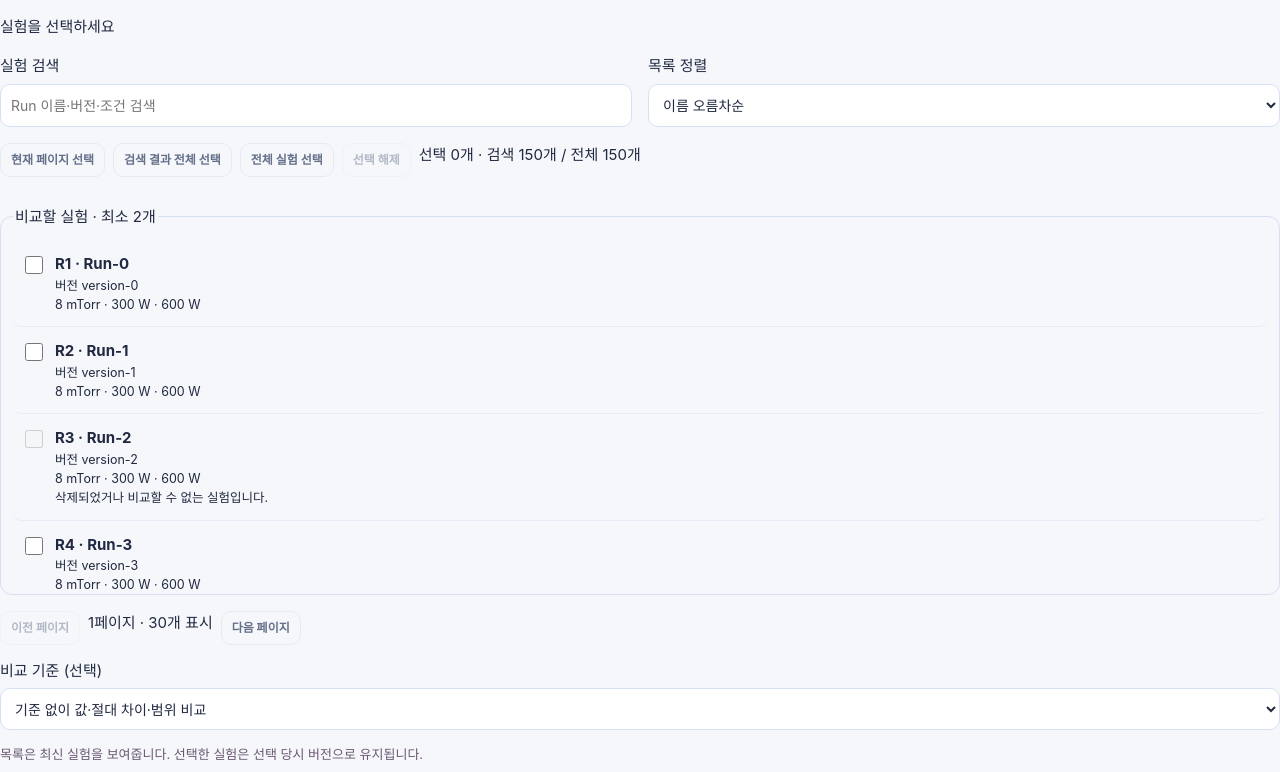
Scenario: page, search-all and catalogue-all selection are distinct server operations
Expected: the checkbox labelled "R1 · Run-0 버전 version-0 8 mTorr · 300 W · 600 W" is shown, [25,256,43,274]
Click the button "현재 페이지 선택" at (52, 160), box [0,143,105,177]
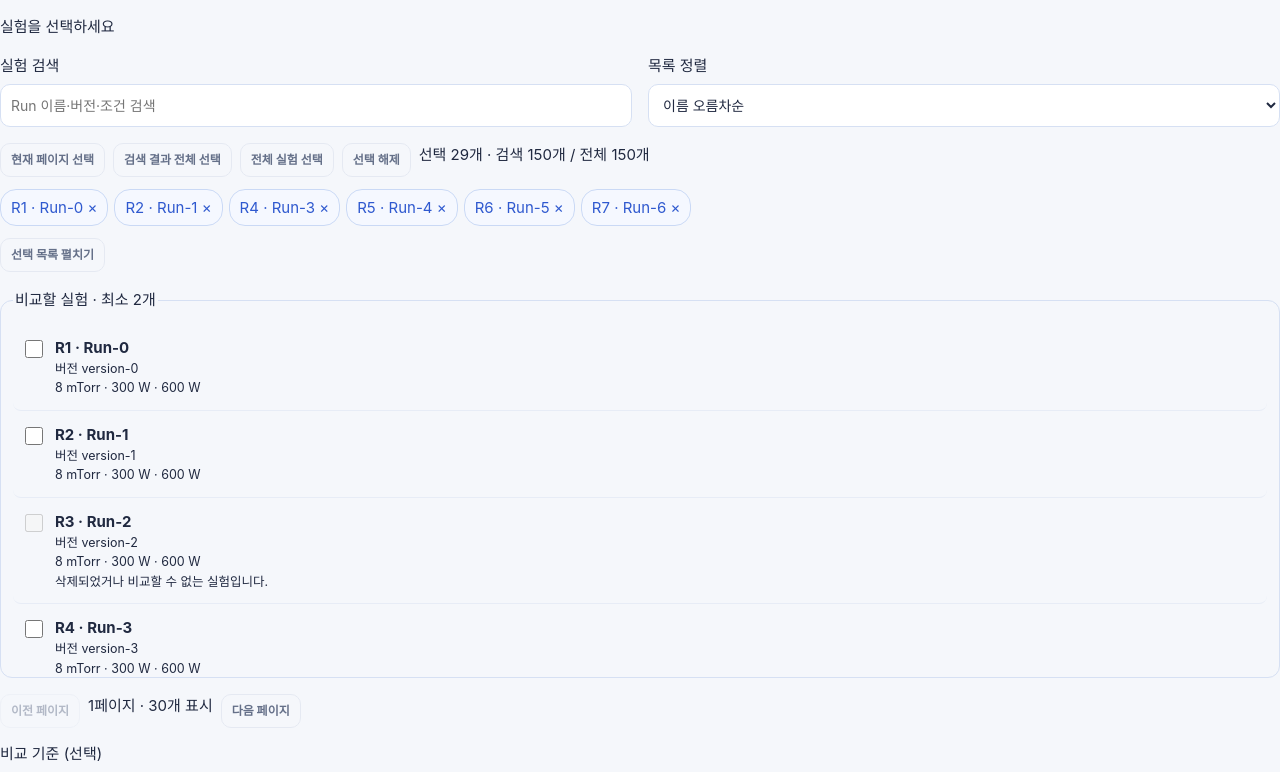
Result: the text "선택 29개 · 검색 150개 / 전체 150개" is shown at [419,145,650,164]
Type "Run-149" into the search field at (316, 105), box [0,84,632,127]
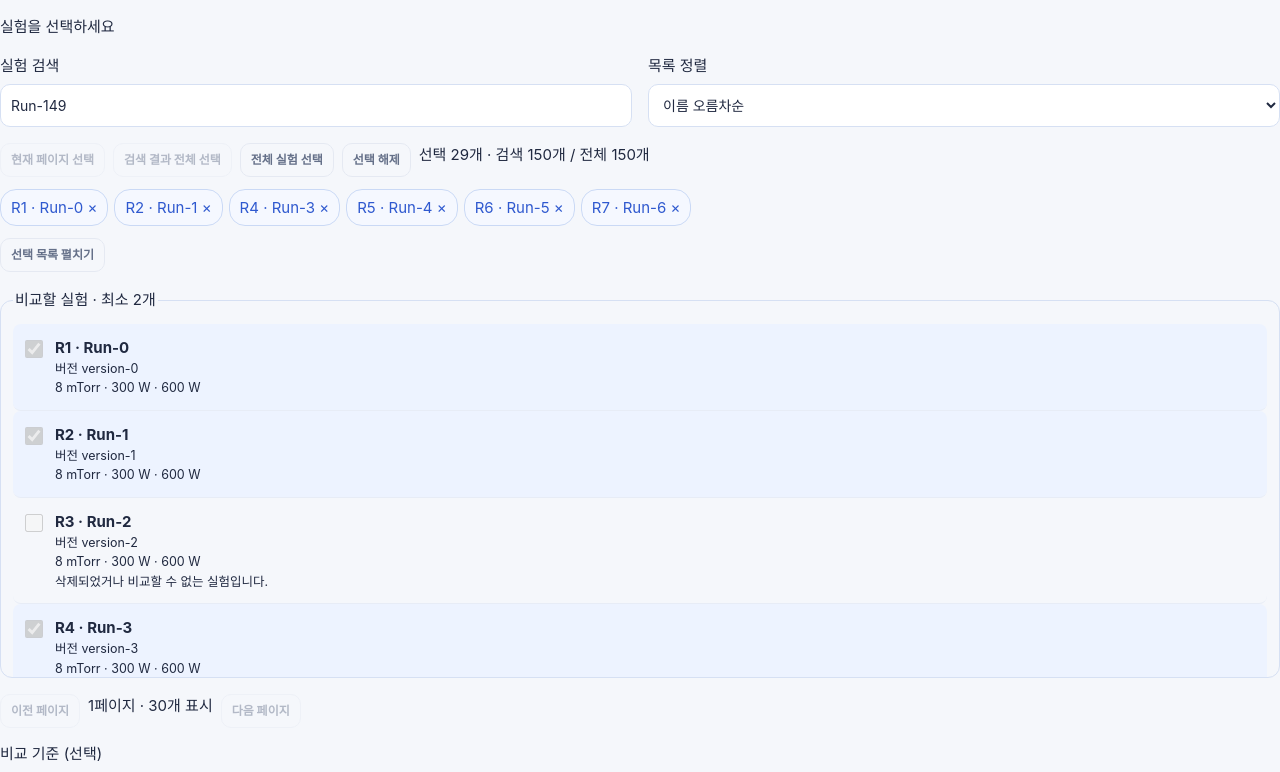
Press Enter in the search field, box [0,84,632,127]
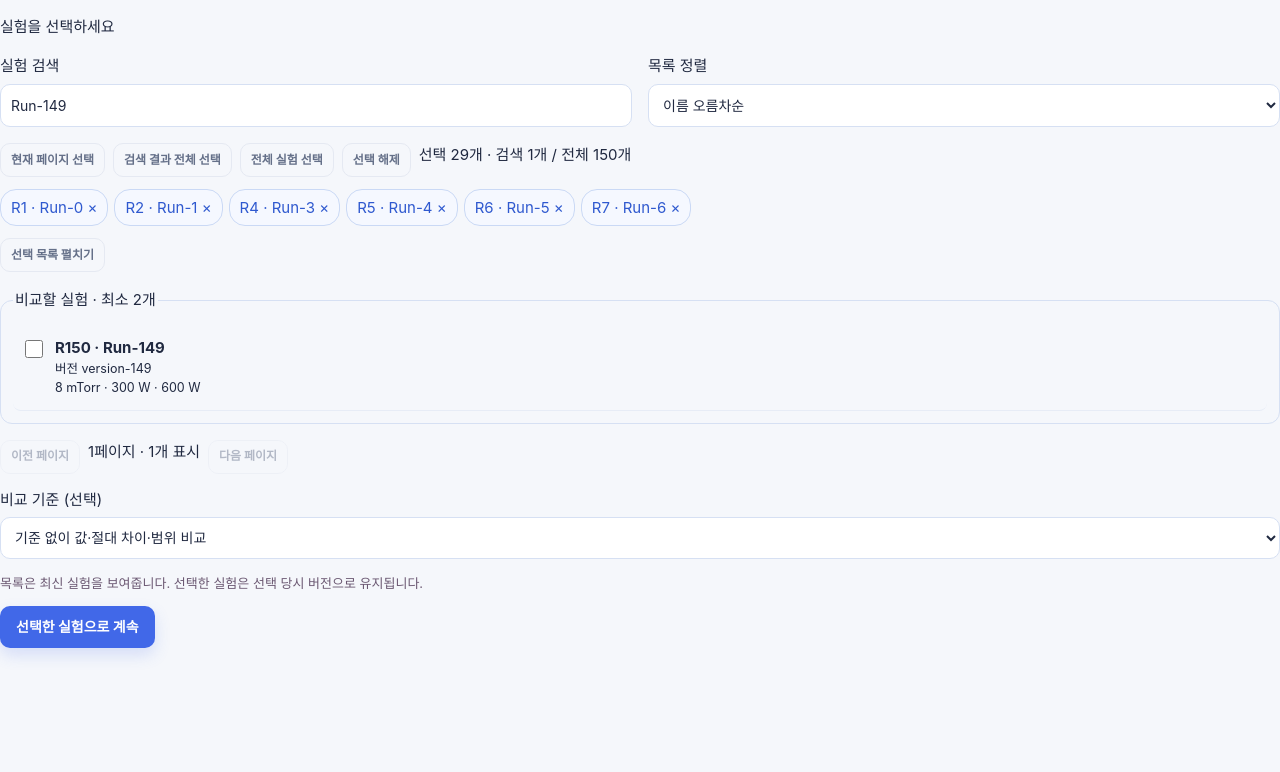
Result: the checkbox labelled "R150 · Run-149 버전 version-149 8 mTorr · 300 W · 600 W" is shown at [25,340,43,358]
Click the button "검색 결과 전체 선택" at (172, 160), box [113,143,232,177]
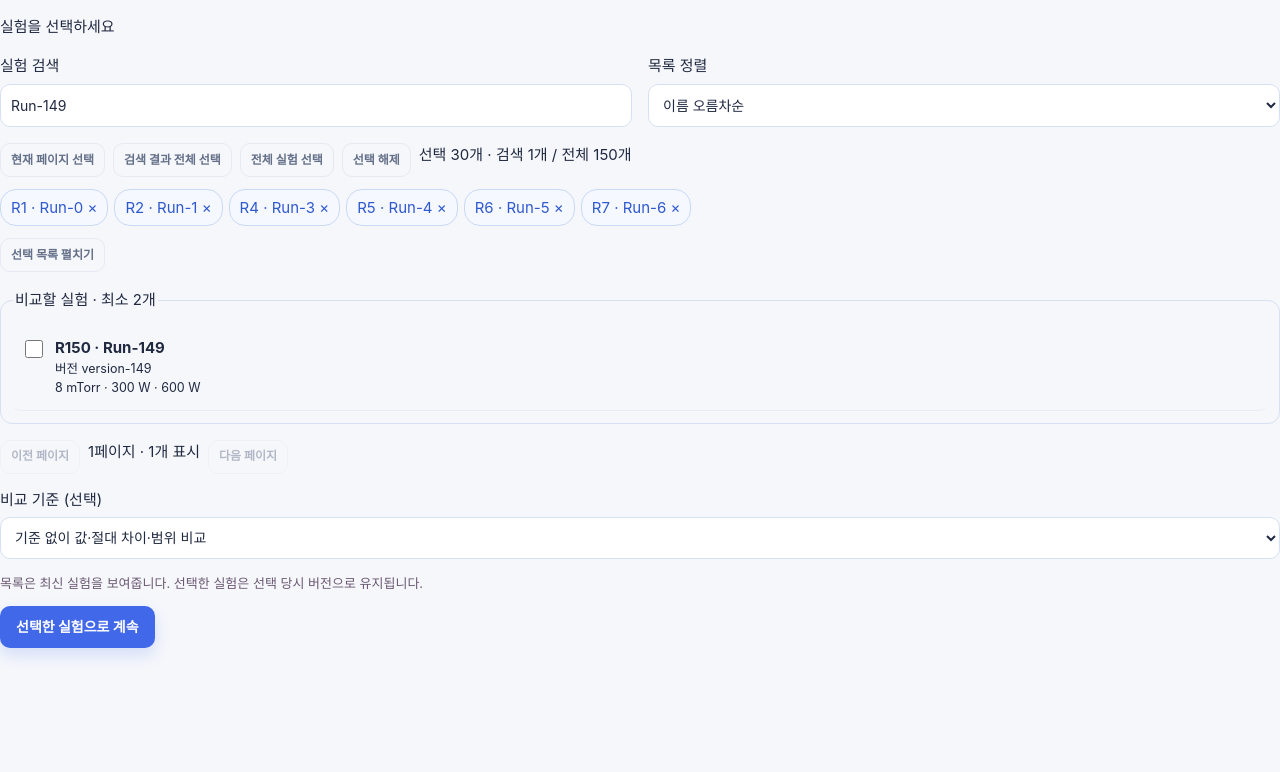
Result: the text "선택 30개 · 검색 1개 / 전체 150개" is shown at [419,145,632,164]
Click the button "전체 실험 선택" at (287, 160), box [240,143,334,177]
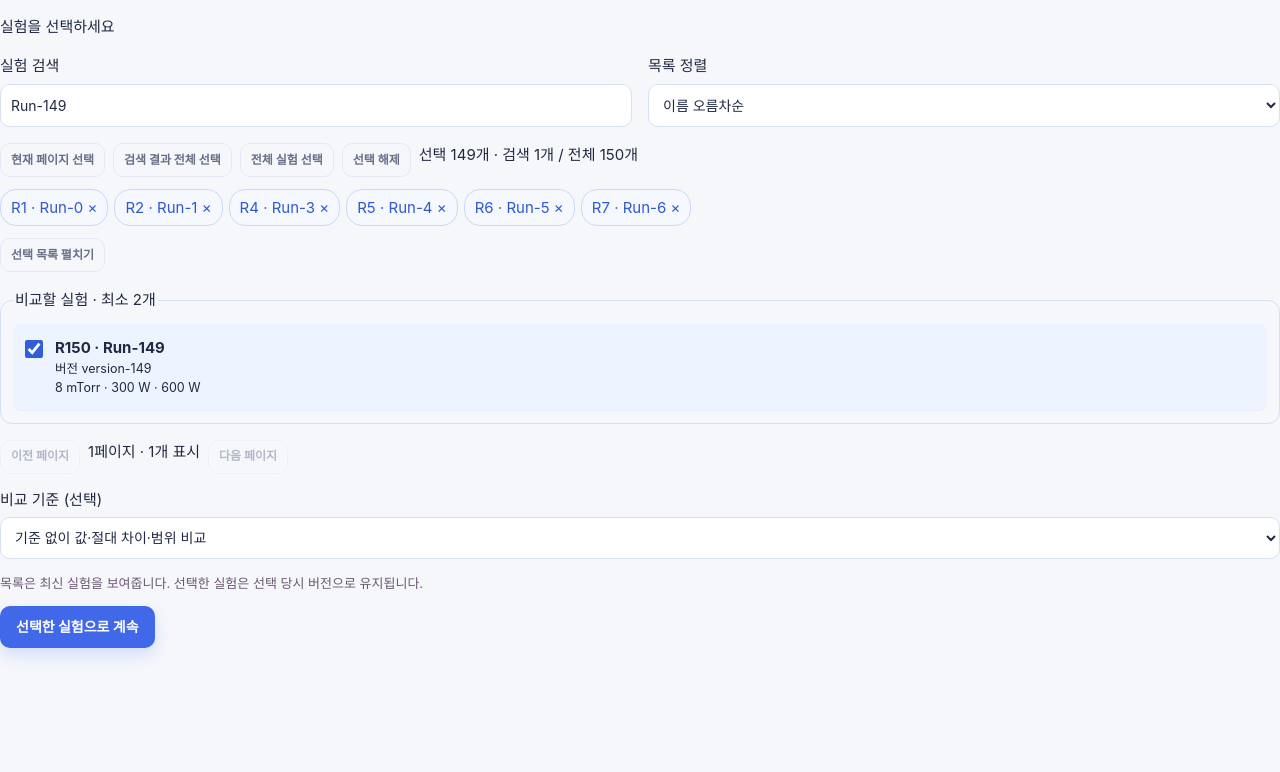
Result: the number of checkboxes is 1 at [25,340,43,358]
Result: the text "선택 149개 · 검색 1개 / 전체 150개" is shown at [419,145,638,164]
